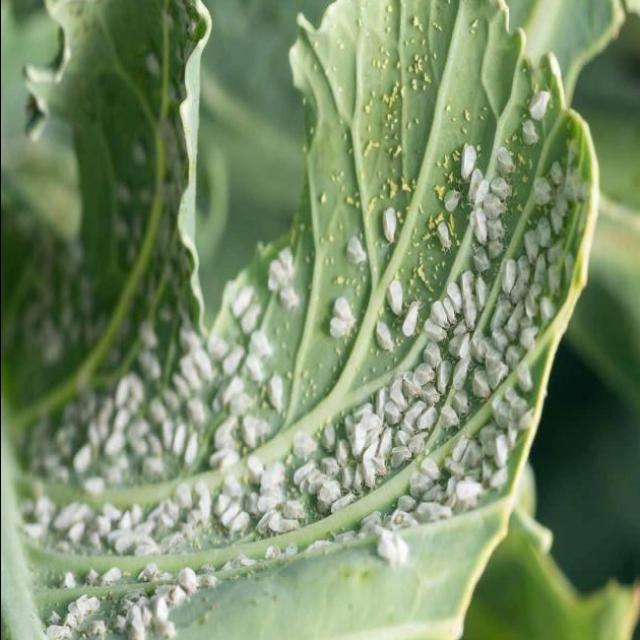Whitefly: (1, 0, 596, 640), (321, 292, 361, 358)
